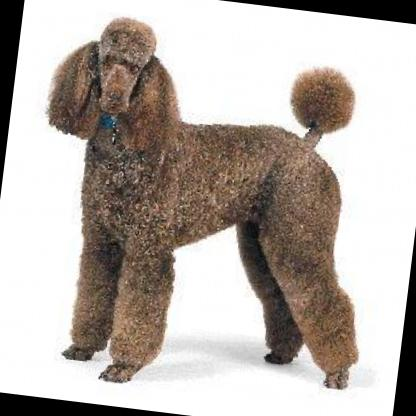standard_poodle: (12, 0, 398, 416)
